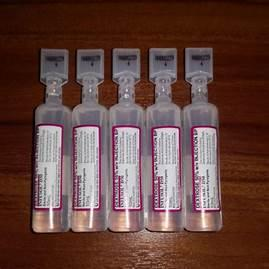Syringe: (182, 40, 233, 238), (27, 41, 73, 242), (71, 41, 109, 243), (109, 45, 145, 242)
